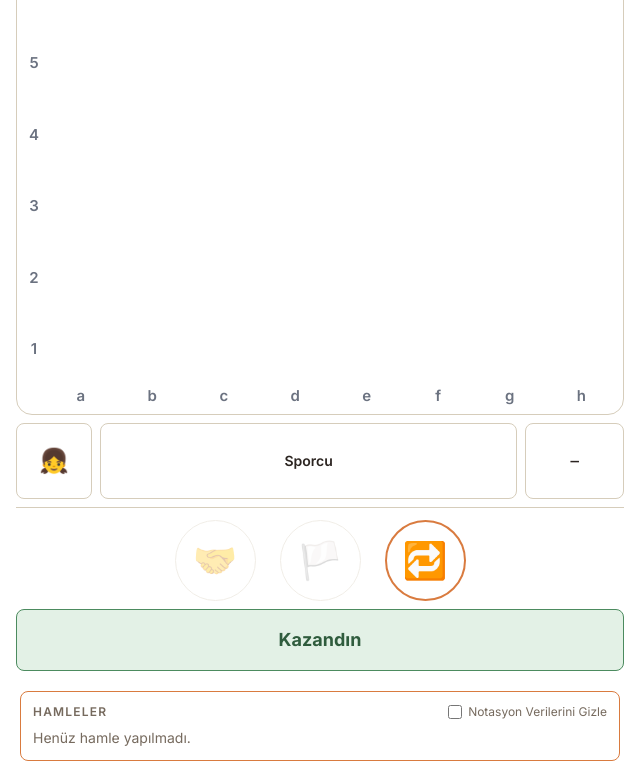
LiveGame — Tekrar Oyna (madde 3, 2026-08-20) › teklif reddedilirse bilgi mesajı gösterilir
(page scrolled)
Click the button named "Tekrar Oyna" at coordinates (425, 560), box [384,520,466,600]
(page scrolled)
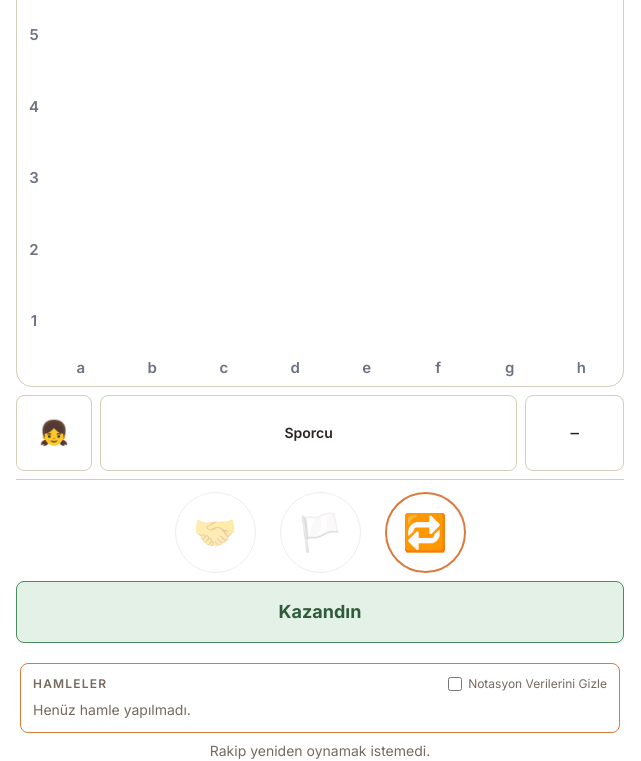
Result: the text "Rakip yeniden oynamak istemedi." is shown at [210,742,430,758]
